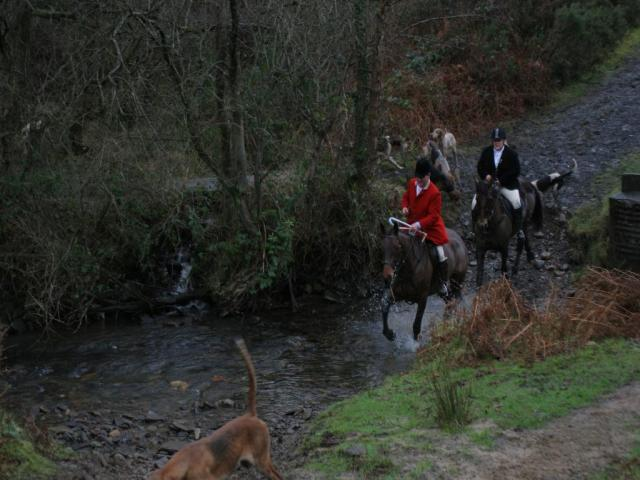Dog: (144, 332, 278, 480), (344, 136, 410, 178), (532, 160, 580, 208), (414, 159, 461, 207), (424, 142, 457, 184), (430, 129, 460, 168)
